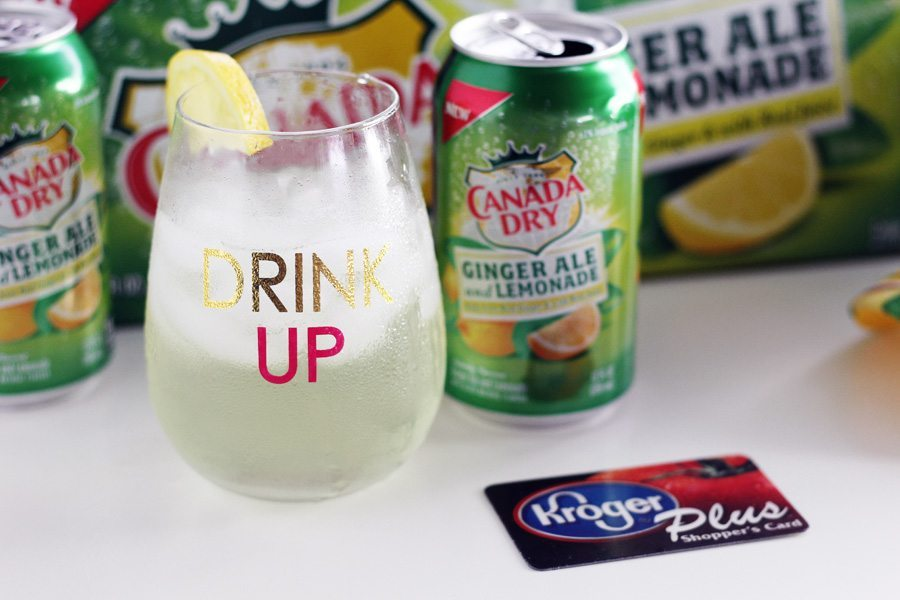Lata: (435, 8, 646, 432)
